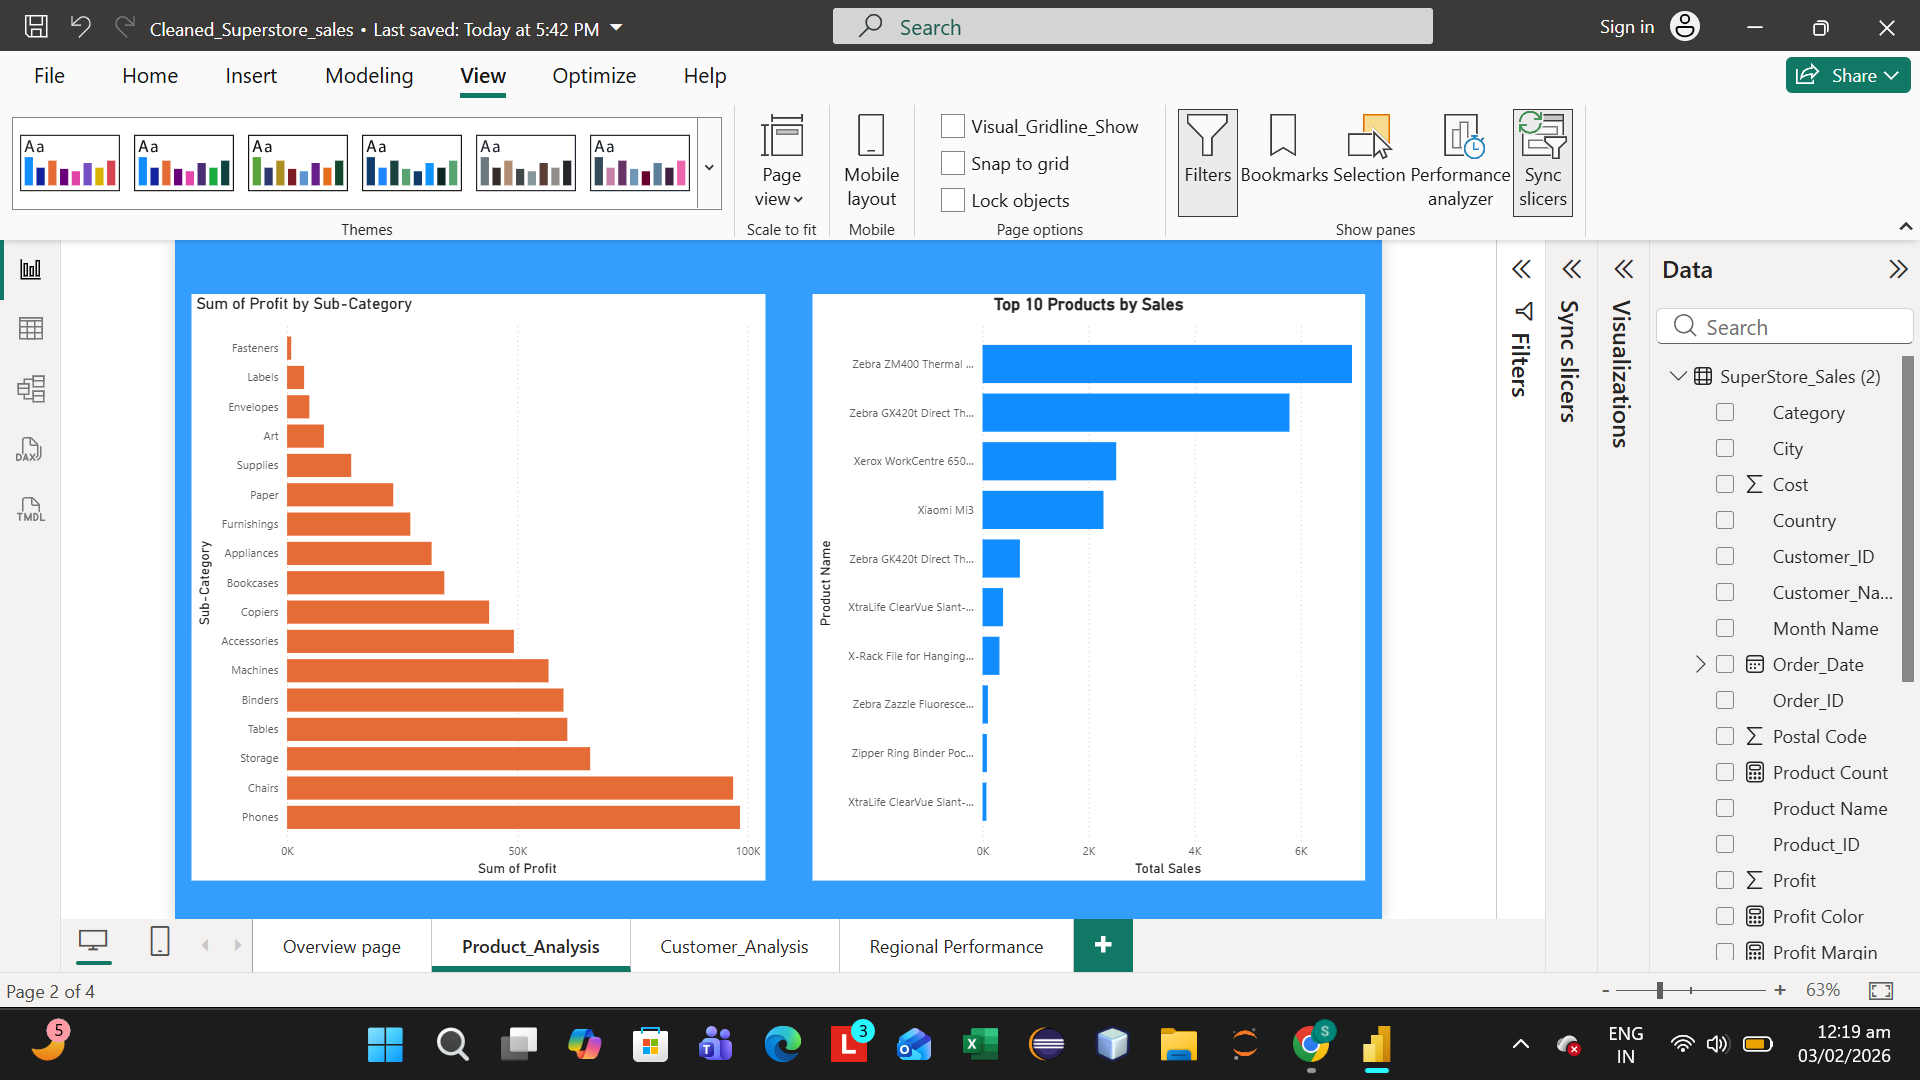

This screenshot's page, from the dashboard's own definition file:
{"tool":"powerbi","page":{"name":"Product_Analysis","canvas":[1280,720],"ordinal":1},"visuals":[{"type":"clusteredBarChart","fields":{"Category":["SuperStore_Sales (2).Sub-Category"],"Y":["Sum(SuperStore_Sales (2).Profit)"]},"box":[17.1,56.9,608.4,621.7],"z":2001},{"type":"clusteredBarChart","title":"Top 10 Products by Sales","fields":{"Category":["SuperStore_Sales (2).Product Name"],"Y":["SuperStore_Sales (2).Total Sales"]},"box":[676.6,56.9,585.7,621.7],"z":2002}]}

Visuals, with their boxes on the page's 1280x720 design canvas (x1, y1, x2, y2). These are canvas units, not pixel positions in the 1920x1080 screenshot, which may show the page scaled, cropped or inside an application window:
clusteredBarChart - SuperStore_Sales (2).Sub-Category x Sum(SuperStore_Sales (2).Profit): 17, 57, 626, 679
"Top 10 Products by Sales" clusteredBarChart: 677, 57, 1262, 679
